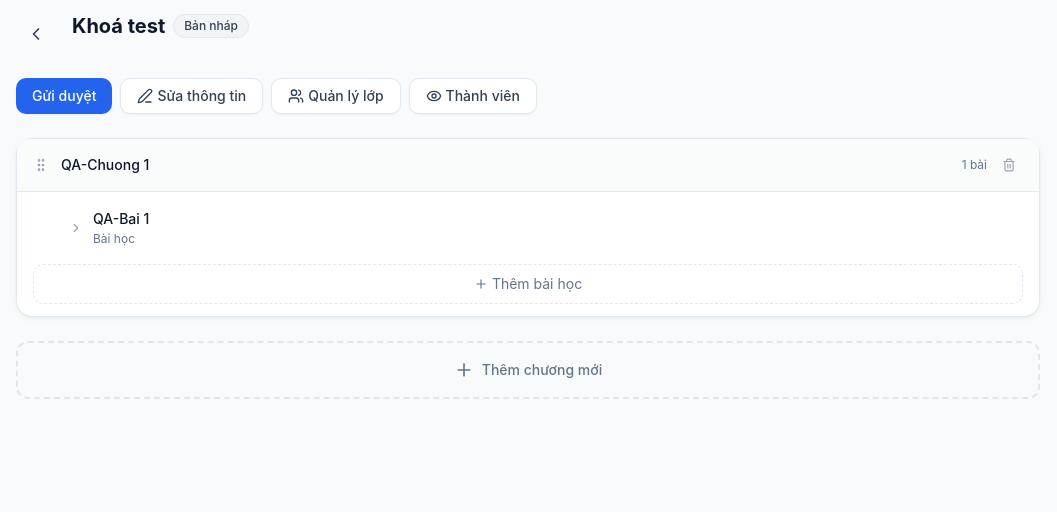
/teacher/courses/[id] — gửi duyệt thay cho tự xuất bản (Phase 3) › khoá draft: nút Chỉnh sửa/Xoá/Thêm nội dung trong bài có 1
Click the text "QA-Bai 1". click: click(121, 218)
box: [93, 210, 149, 227]
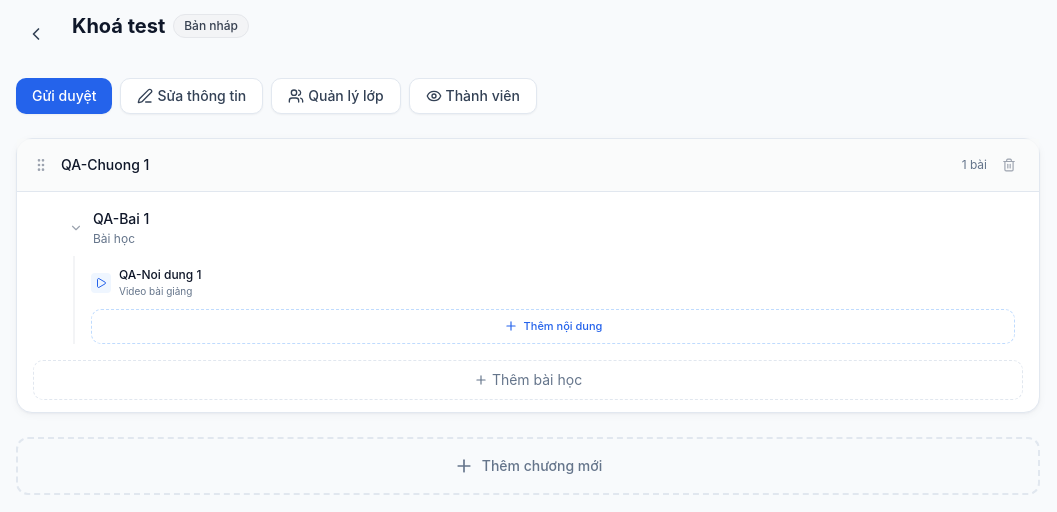
Now the text "QA-Noi dung 1" is shown, box [119, 267, 202, 282]
Now the number of buttons "Thêm nội dung" is 1, box [91, 309, 1015, 344]
